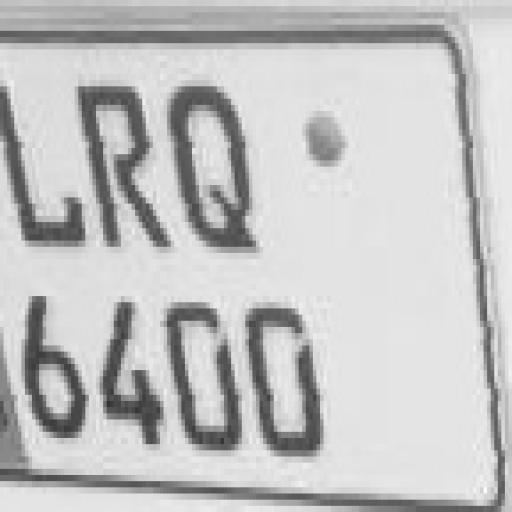0: (168, 282, 239, 464), (242, 308, 331, 452)
4: (98, 297, 164, 458)
6: (19, 289, 87, 442)
L: (0, 92, 79, 250)
Q: (162, 78, 258, 262)
R: (77, 64, 160, 260)
